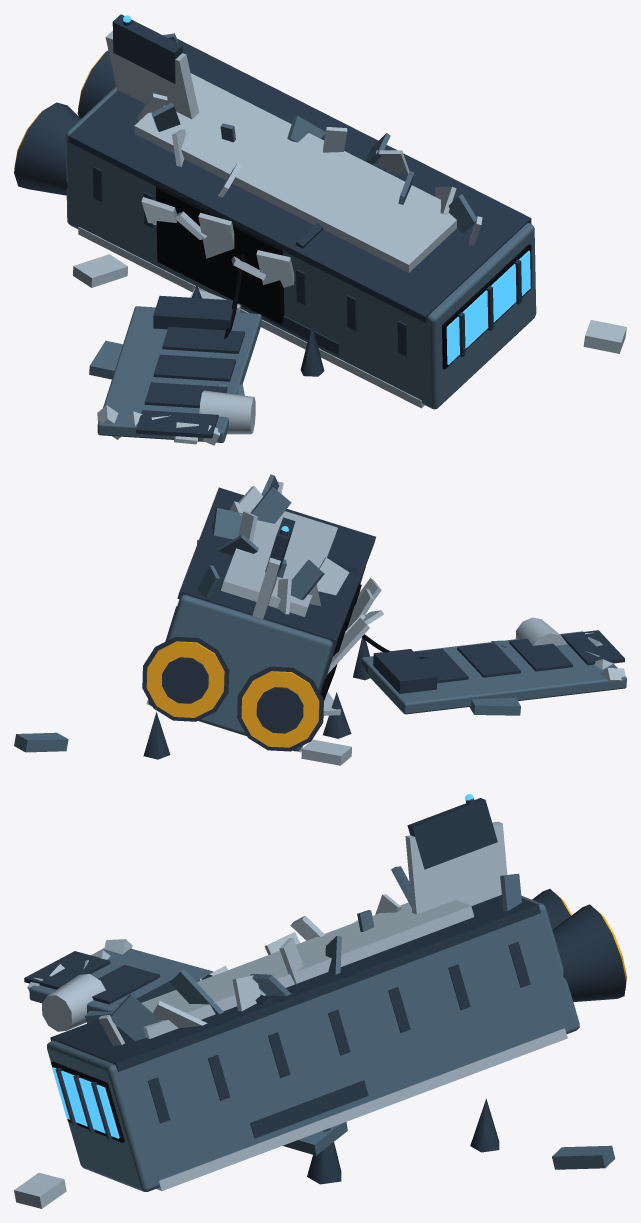
Rendered from wrecked_transport.glb.
The picture shows the model from 3 angles, top to bottom: view 1: azimuth 30°, elevation 25°; view 2: azimuth 150°, elevation 25°; view 3: azimuth 270°, elevation 25°; orthographic projection. The views are drawn at different scales.
Parts seen in each view (by area): view 1: Hull, WingL, Cockpit, Debris, EngineL, EngineR; view 2: Hull, WingL, EngineL, EngineR, Debris; view 3: Hull, WingL, Debris, EngineR, Cockpit, EngineL.
Part boxes in pixels (left/top/right/bottom): Hull: left=65, top=14, right=536, bottom=409; WingL: left=97, top=295, right=261, bottom=445; Cockpit: left=442, top=244, right=531, bottom=369; Debris: left=73, top=254, right=626, bottom=395; EngineL: left=14, top=102, right=80, bottom=195; EngineR: left=77, top=50, right=115, bottom=118; Hull: left=146, top=474, right=383, bottom=752; WingL: left=361, top=617, right=626, bottom=714; EngineL: left=237, top=666, right=323, bottom=751; EngineR: left=142, top=636, right=229, bottom=721; Debris: left=14, top=539, right=520, bottom=765; Hull: left=47, top=798, right=579, bottom=1191; WingL: left=24, top=939, right=213, bottom=1031; Debris: left=14, top=1002, right=615, bottom=1208; EngineR: left=552, top=904, right=626, bottom=1001; Cockpit: left=51, top=1061, right=124, bottom=1142; EngineL: left=532, top=889, right=571, bottom=929.
Size of the model in its own units: 5.96 by 3.38 by 6.05.
